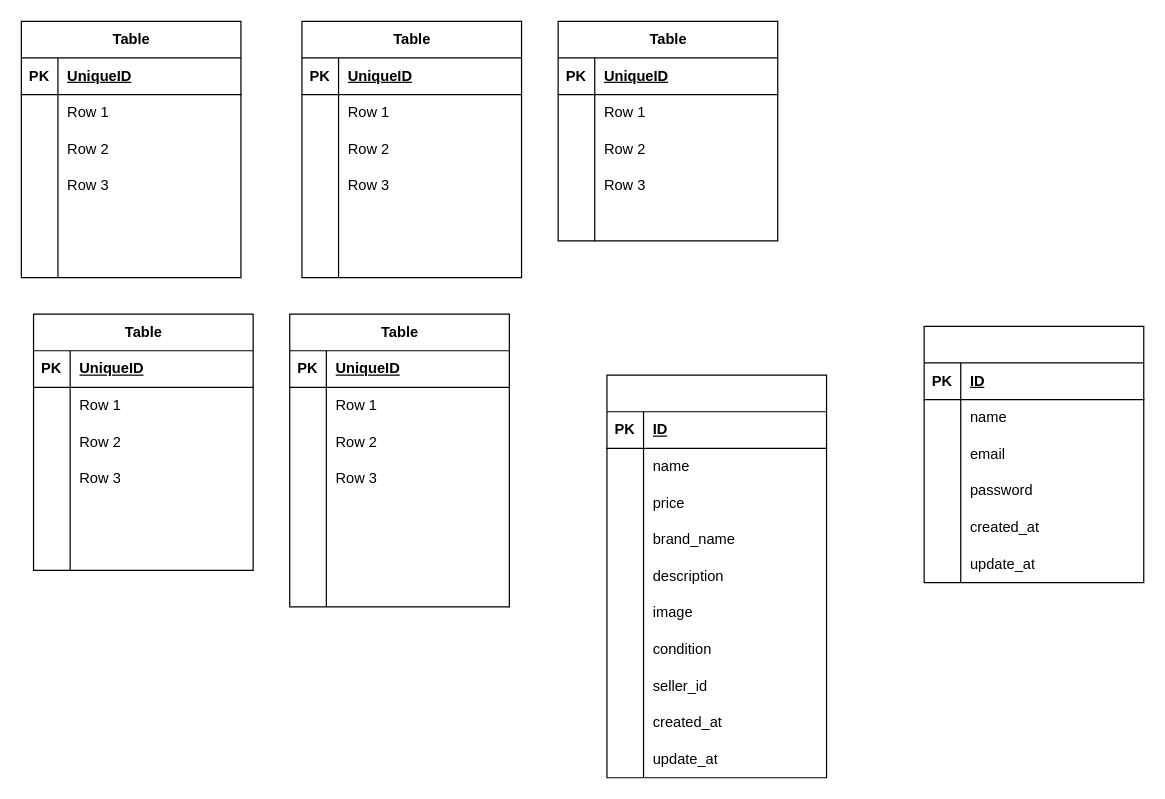
The diagram is 1165 pixels wide and 799 high, and some of its shapes have lost their labels. Each missing label, with the box of its shape:
ItemsTable: (606, 374, 827, 778)
UsersTable: (923, 325, 1144, 583)
